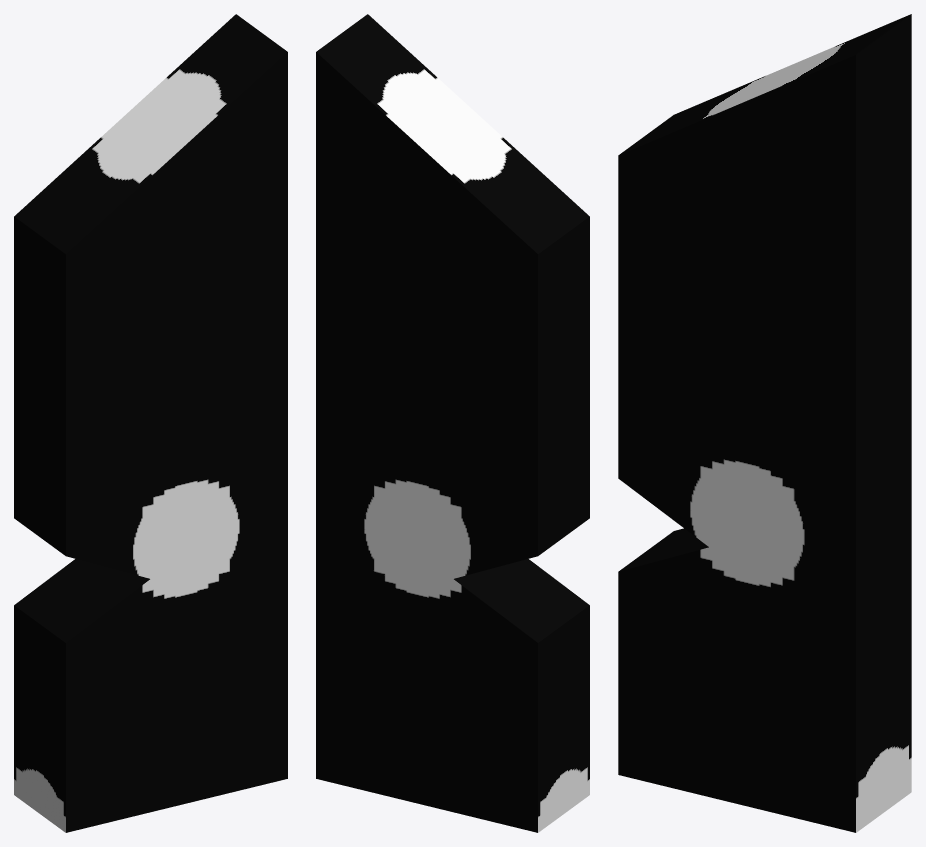
The model's file is Monolith1.fbx.
3 views of the same model, side by side, from view 1: azimuth 30°, elevation 25°; view 2: azimuth 150°, elevation 25°; view 3: azimuth 330°, elevation 25° (orthographic). The views are drawn at different scales.
Visible parts, largest first — view 1: MONOLITH1; view 2: MONOLITH1; view 3: MONOLITH1.
Part boxes in pixels (x1=…): MONOLITH1: x1=14, y1=14, x2=287, y2=832; MONOLITH1: x1=316, y1=14, x2=589, y2=832; MONOLITH1: x1=618, y1=14, x2=911, y2=832.
Bounding box in the file's own units: 2 × 6.26 × 0.8069.
